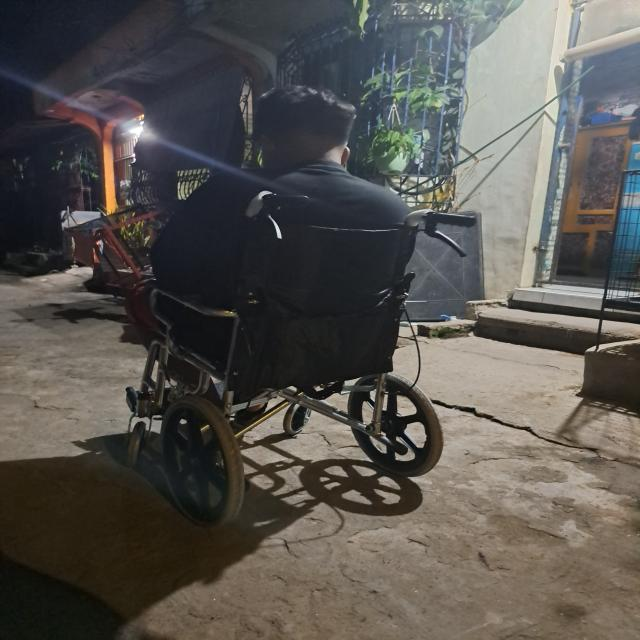wheelchairs: (115, 204, 499, 533)
